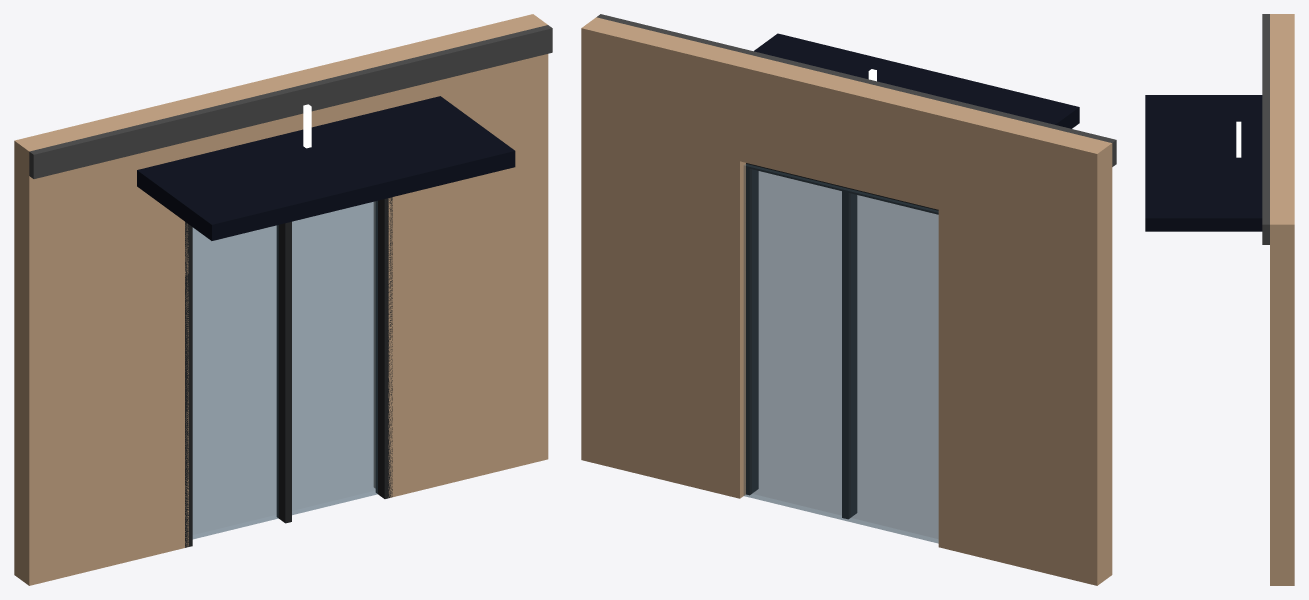
File: KIT_Wall_4m_Door_Warm.glb
3 renders of one model, left to right at view 1: azimuth 30°, elevation 25°; view 2: azimuth 150°, elevation 25°; view 3: azimuth 270°, elevation 25°, orthographic. The views are drawn at different scales.
Visible parts, largest first — view 1: KIT_Wall_4m_Door_Warm; view 2: KIT_Wall_4m_Door_Warm; view 3: KIT_Wall_4m_Door_Warm.
Boxes of the visible parts, left/top/right/bottom form: KIT_Wall_4m_Door_Warm: left=14, top=14, right=552, bottom=585; KIT_Wall_4m_Door_Warm: left=581, top=14, right=1116, bottom=585; KIT_Wall_4m_Door_Warm: left=1145, top=14, right=1294, bottom=585.
Bounding box in the file's own units: 4 × 3.2 × 1.2.
